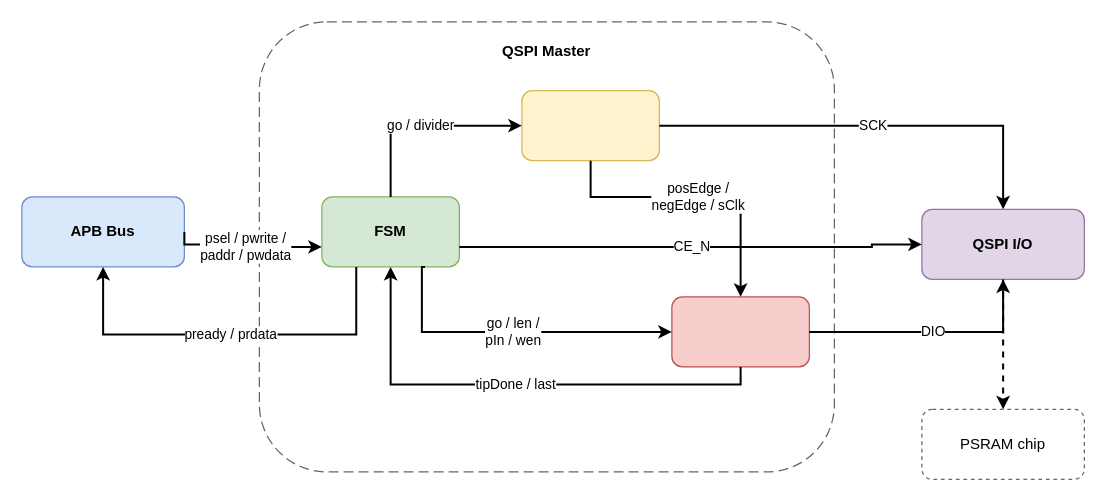
The diagram is 1106 pixels wide and 501 high, and some of its shapes have lost their labels. Each missing label, with the centre of its shape:
"Clgen" goes at point (590, 125).
"Shift" goes at point (740, 331).
